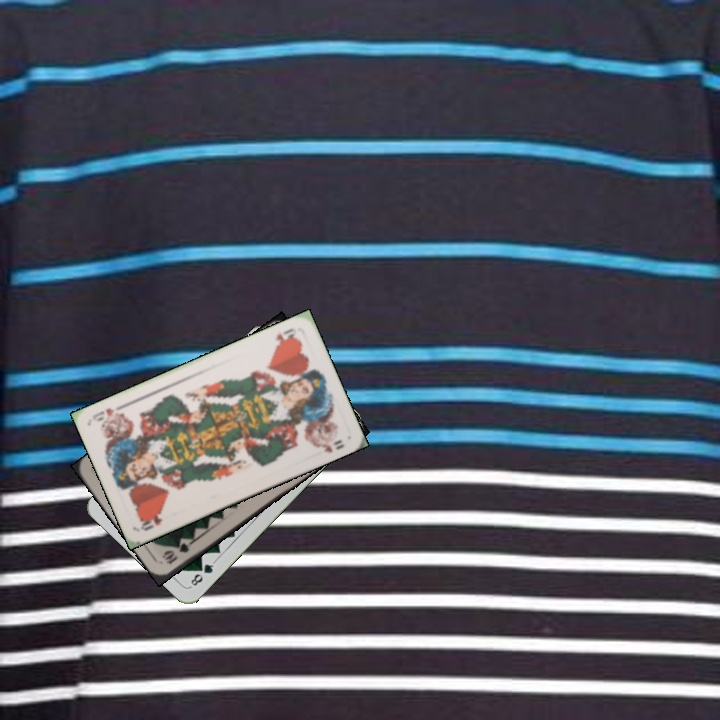G10: (158, 534, 196, 567)
G8: (186, 557, 218, 590)
HO: (271, 324, 299, 349), (136, 509, 165, 533)
